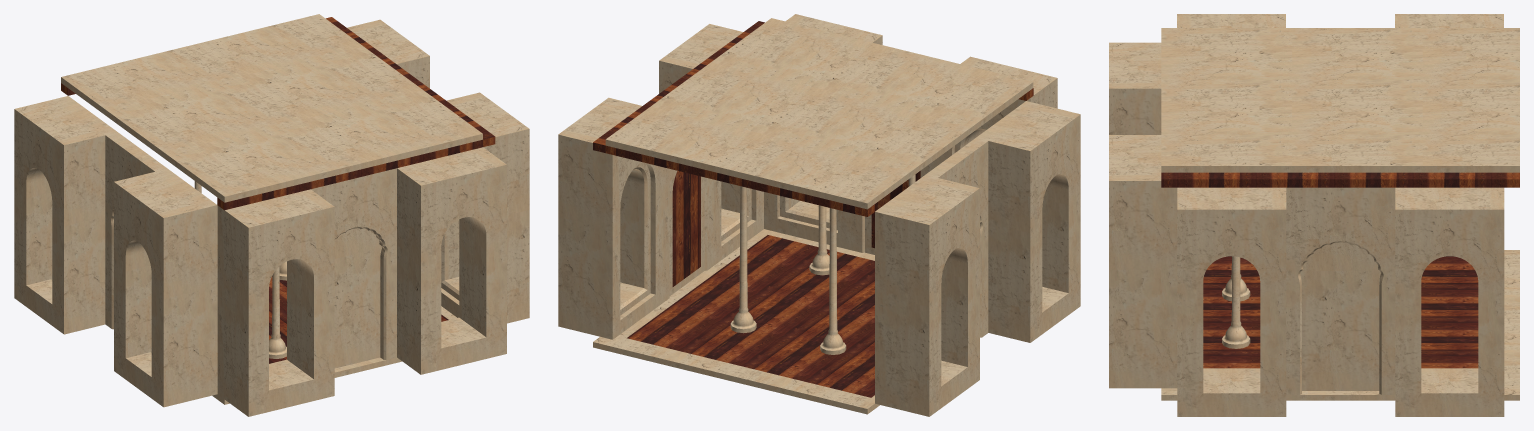
Rendered from BOX ROOM (1).fbx.
3 views of the same model, side by side, from view 1: azimuth 30°, elevation 25°; view 2: azimuth 150°, elevation 25°; view 3: azimuth 270°, elevation 25° (orthographic). The views are drawn at different scales.
Visible parts, largest first — view 1: Group_16, Group_7, Group_10, Group_6, Group_11, Group_8, Group, Group_12, Group_14, Group_19, Group_13, m_3; view 2: Group_16, Group, Group_19, Group_11, Group_10, Group_6, Group_12, Group_15, Group_7, m, m_4, Group_8 (+2 smaller); view 3: Group, Group_16, Group_6, Group_19, Group_13, Group_7, Group_10, Group_11, m_2.
Boxes of the visible parts, bbox=[...] form: Group_16: bbox=[61, 14, 482, 202]; Group_7: bbox=[217, 189, 334, 416]; Group_10: bbox=[114, 168, 217, 407]; Group_6: bbox=[397, 147, 506, 374]; Group_11: bbox=[14, 96, 117, 334]; Group_8: bbox=[311, 168, 396, 368]; Group: bbox=[347, 19, 529, 323]; Group_12: bbox=[105, 132, 167, 329]; Group_14: bbox=[217, 139, 482, 210]; Group_19: bbox=[212, 276, 456, 404]; Group_13: bbox=[326, 17, 495, 146]; m_3: bbox=[269, 266, 286, 358]; Group_16: bbox=[605, 18, 1033, 209]; Group: bbox=[558, 24, 763, 339]; Group_19: bbox=[593, 229, 879, 414]; Group_11: bbox=[875, 175, 979, 416]; Group_10: bbox=[976, 101, 1080, 342]; Group_6: bbox=[764, 14, 882, 249]; Group_12: bbox=[925, 138, 988, 337]; Group_15: bbox=[605, 145, 874, 216]; Group_7: bbox=[938, 56, 1057, 164]; m: bbox=[730, 186, 756, 333]; m_4: bbox=[820, 208, 846, 354]; Group_8: bbox=[851, 157, 938, 254]; Group: bbox=[1177, 187, 1504, 416]; Group_16: bbox=[1161, 28, 1519, 172]; Group_6: bbox=[1109, 135, 1177, 388]; Group_19: bbox=[1161, 250, 1519, 400]; Group_13: bbox=[1161, 172, 1519, 187]; Group_7: bbox=[1109, 42, 1161, 134]; Group_10: bbox=[1177, 14, 1285, 27]; Group_11: bbox=[1395, 14, 1503, 27]; m_2: bbox=[1222, 256, 1250, 348].
Bounding box in the file's own units: 708 × 385 × 628.
Materials: 3 (2 with a texture image).
